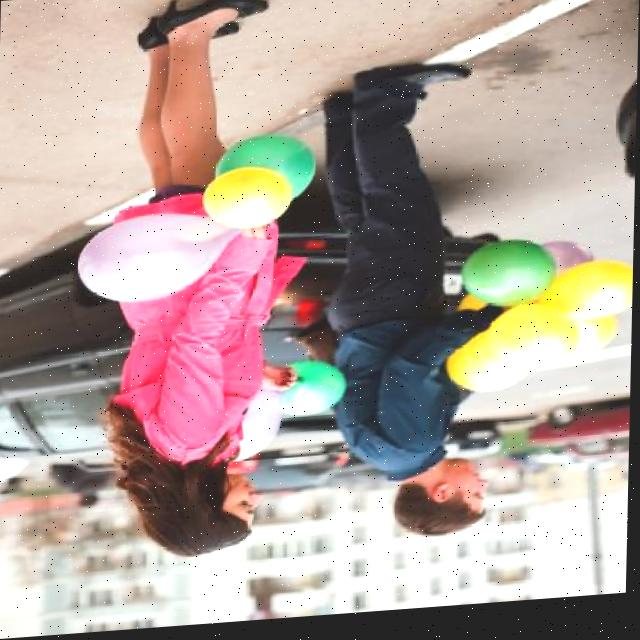balloon: (62, 205, 252, 310), (196, 124, 333, 208), (448, 229, 563, 329), (472, 307, 589, 383), (194, 172, 298, 240), (445, 330, 539, 404), (543, 264, 635, 336), (214, 388, 295, 465), (268, 359, 360, 424), (536, 307, 620, 374)
